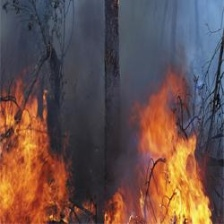fire: (140, 109, 206, 224), (1, 106, 63, 224)
smoke: (66, 1, 142, 178)
